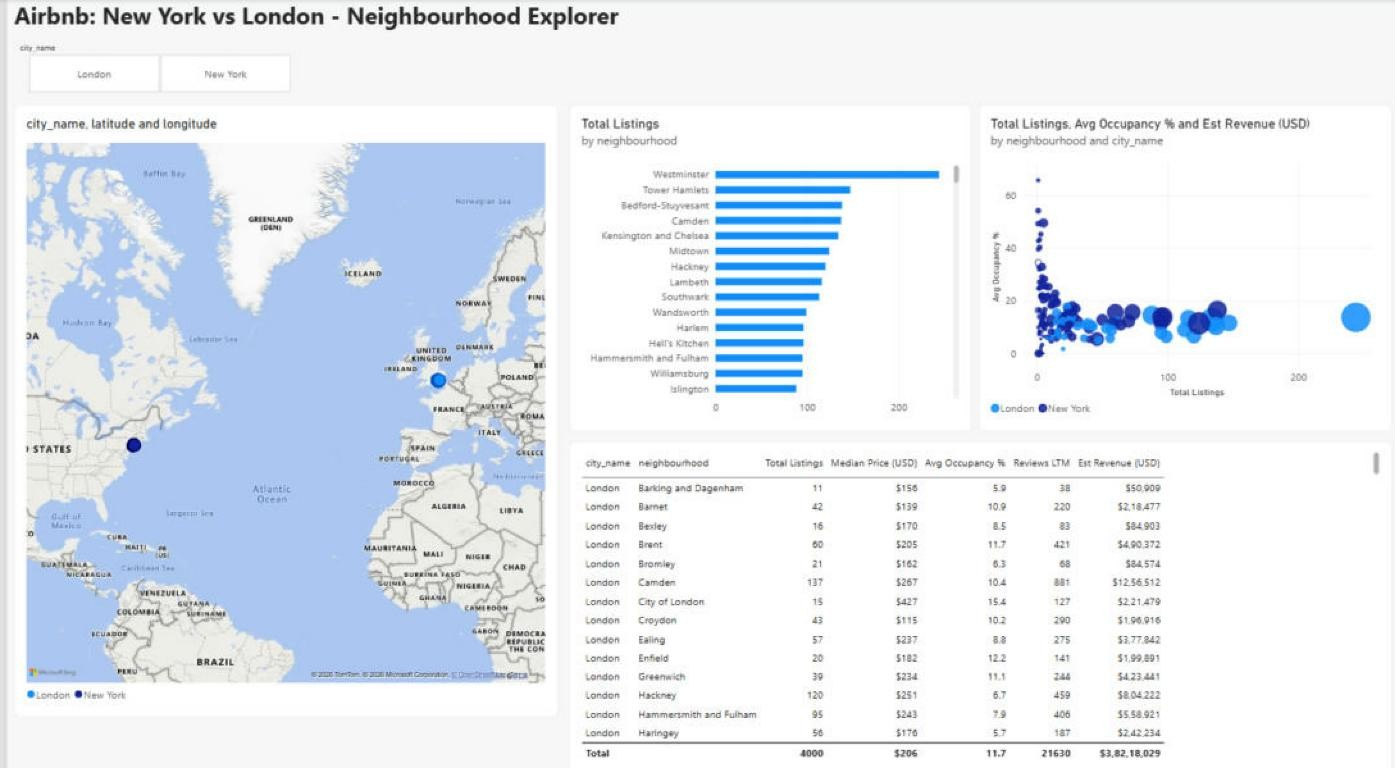

The page's visual inventory and layout, read from the dashboard file:
{"tool":"powerbi","page":{"name":"Neighbourhoods","canvas":[1920,1080],"ordinal":1},"visuals":[{"type":"textbox","box":[10,0,1000,55],"z":0},{"type":"slicer","fields":{"Values":["City.city_name"]},"box":[10,60,400,70],"z":1000},{"type":"map","fields":{"X":["Listing.longitude"],"Y":["Listing.latitude"],"Series":["City.city_name"]},"box":[10,145,750,845],"z":2000},{"type":"clusteredBarChart","fields":{"Category":["Neighbourhood.neighbourhood"],"Y":["Listing.Total Listings"]},"box":[775,145,555,450],"z":3000},{"type":"scatterChart","fields":{"Category":["Neighbourhood.neighbourhood"],"X":["Listing.Total Listings"],"Y":["Listing.Avg Occupancy %"],"Size":["Listing.Est Revenue (USD)"],"Series":["Neighbourhood.city_name"]},"box":[1340,145,570,450],"z":4000},{"type":"tableEx","fields":{"Values":["Neighbourhood.city_name","Neighbourhood.neighbourhood","Listing.Total Listings","Listing.Median Price (USD)","Listing.Avg Occupancy %","Listing.Reviews LTM","Listing.Est Revenue (USD)"]},"box":[775,610,1135,460],"z":5000}]}

Visuals, with their boxes in screenshot pixels (x1, y1, x2, y2), scaled from the page's 1920x1080 canvas onto the 1395x768 screenshot:
textbox: <region>7, 0, 734, 39</region>
slicer - City.city_name: <region>7, 43, 298, 92</region>
map - Listing.longitude x Listing.latitude: <region>7, 103, 552, 704</region>
clusteredBarChart - Neighbourhood.neighbourhood x Listing.Total Listings: <region>563, 103, 966, 423</region>
scatterChart - Neighbourhood.neighbourhood x Listing.Total Listings: <region>974, 103, 1388, 423</region>
tableEx - Neighbourhood.city_name x Neighbourhood.neighbourhood: <region>563, 434, 1388, 761</region>
